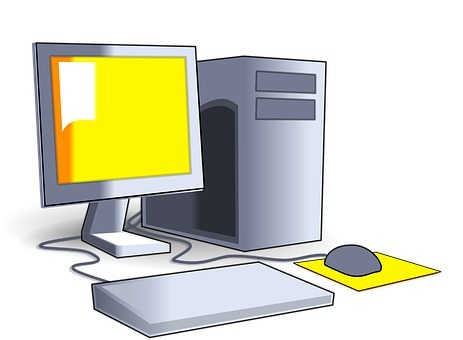tvmonitor: (20, 33, 205, 261)
